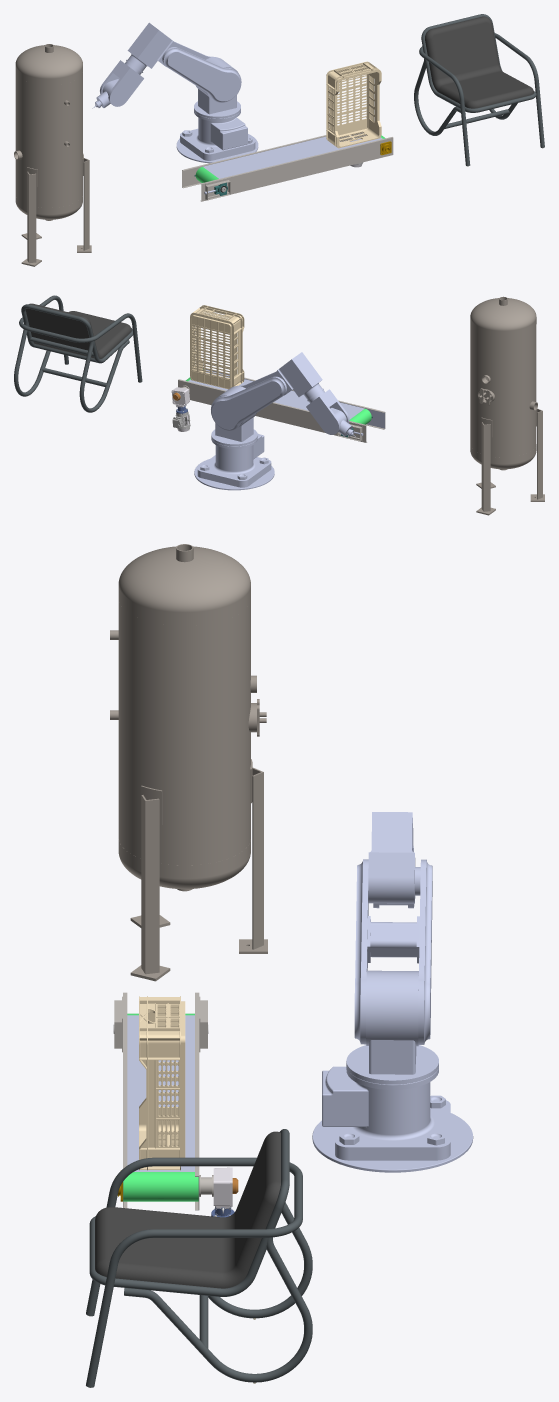
File: ensamble.glb
The picture shows the model from 3 angles, top to bottom: view 1: azimuth 30°, elevation 25°; view 2: azimuth 150°, elevation 25°; view 3: azimuth 270°, elevation 25°; orthographic projection. The views are drawn at different scales.
Visible parts, largest first — view 1: CUERPO-PURGA-1, Estructura banda g.IGS-1, ASIENTO Y ESPALDAR_1.stp-1/TAPIZADO ASIENTO Y ESPALDAR_1.stp, cageot-1, BRAZO ROBOTICO-1-1, BRAZO ROBOTICO-4-1, BRAZO ROBOTICO-3-1, CUP-DOMO-1, PATAS FRONTALES_1.stp-1, BRAZO ROBOTICO-2-1, ASIENTO Y ESPALDAR_1.stp-1/MARCO ASIENTO Y ESPALDAR_1.stp-1, CUP-DOMO-2 (+3 smaller); view 2: CUERPO-PURGA-1, cageot-1, Estructura banda g.IGS-1, BRAZO ROBOTICO-1-1, ASIENTO Y ESPALDAR_1.stp-1/TAPIZADO ASIENTO Y ESPALDAR_1.stp, BRAZO ROBOTICO-4-1, BRAZO ROBOTICO-3-1, CUP-DOMO-1, ASIENTO Y ESPALDAR_1.stp-1/MARCO ASIENTO Y ESPALDAR_1.stp-1, PATAS FRONTALES_1.stp-1, BRAZO ROBOTICO-2-1, PATA TRASERA_1.stp-3 (+5 smaller); view 3: CUERPO-PURGA-1, ASIENTO Y ESPALDAR_1.stp-1/TAPIZADO ASIENTO Y ESPALDAR_1.stp, BRAZO ROBOTICO-1-1, CUP-DOMO-1, Estructura banda g.IGS-1, cageot-1, BRAZO ROBOTICO-2-1, BRAZO ROBOTICO-3-1, PATAS FRONTALES_1.stp-1, BRAZO ROBOTICO-4-1, PATA TRASERA_1.stp-2, ASIENTO Y ESPALDAR_1.stp-1/MARCO ASIENTO Y ESPALDAR_1.stp-1 (+3 smaller).
Part boxes in pixels (box(x1,y1,x2,y2)): CUERPO-PURGA-1: box(14, 73, 91, 266); Estructura banda g.IGS-1: box(182, 133, 393, 201); ASIENTO Y ESPALDAR_1.stp-1/TAPIZADO ASIENTO Y ESPALDAR_1.stp: box(425, 16, 533, 108); cageot-1: box(326, 61, 381, 148); BRAZO ROBOTICO-1-1: box(176, 110, 258, 163); BRAZO ROBOTICO-4-1: box(100, 22, 179, 106); BRAZO ROBOTICO-3-1: box(162, 42, 241, 102); CUP-DOMO-1: box(15, 44, 82, 85); PATAS FRONTALES_1.stp-1: box(419, 33, 544, 166); BRAZO ROBOTICO-2-1: box(194, 57, 240, 118); ASIENTO Y ESPALDAR_1.stp-1/MARCO ASIENTO Y ESPALDAR_1.stp-1: box(421, 14, 536, 112); CUP-DOMO-2: box(15, 195, 82, 220); CUERPO-PURGA-1: box(470, 325, 544, 515); cageot-1: box(190, 305, 244, 389); Estructura banda g.IGS-1: box(178, 369, 385, 442); BRAZO ROBOTICO-1-1: box(194, 433, 274, 490); ASIENTO Y ESPALDAR_1.stp-1/TAPIZADO ASIENTO Y ESPALDAR_1.stp: box(26, 303, 131, 358); BRAZO ROBOTICO-4-1: box(272, 352, 349, 434); BRAZO ROBOTICO-3-1: box(211, 372, 286, 430); CUP-DOMO-1: box(470, 296, 536, 337); ASIENTO Y ESPALDAR_1.stp-1/MARCO ASIENTO Y ESPALDAR_1.stp-1: box(21, 304, 132, 363); PATAS FRONTALES_1.stp-1: box(19, 295, 142, 382); BRAZO ROBOTICO-2-1: box(211, 386, 257, 446); PATA TRASERA_1.stp-3: box(79, 340, 129, 412); CUERPO-PURGA-1: box(110, 599, 267, 981); ASIENTO Y ESPALDAR_1.stp-1/TAPIZADO ASIENTO Y ESPALDAR_1.stp: box(95, 1131, 280, 1288); BRAZO ROBOTICO-1-1: box(312, 1065, 473, 1172); CUP-DOMO-1: box(118, 544, 250, 625); Estructura banda g.IGS-1: box(123, 992, 199, 1210); cageot-1: box(139, 996, 185, 1170); BRAZO ROBOTICO-2-1: box(346, 970, 438, 1084); BRAZO ROBOTICO-3-1: box(354, 859, 432, 1044); PATAS FRONTALES_1.stp-1: box(86, 1157, 302, 1387); BRAZO ROBOTICO-4-1: box(368, 812, 415, 908); PATA TRASERA_1.stp-2: box(124, 1237, 312, 1382); ASIENTO Y ESPALDAR_1.stp-1/MARCO ASIENTO Y ESPALDAR_1.stp-1: box(89, 1129, 289, 1296).
Size of what is drawn, in the model's own units: 3.96 by 1.52 by 1.34.
